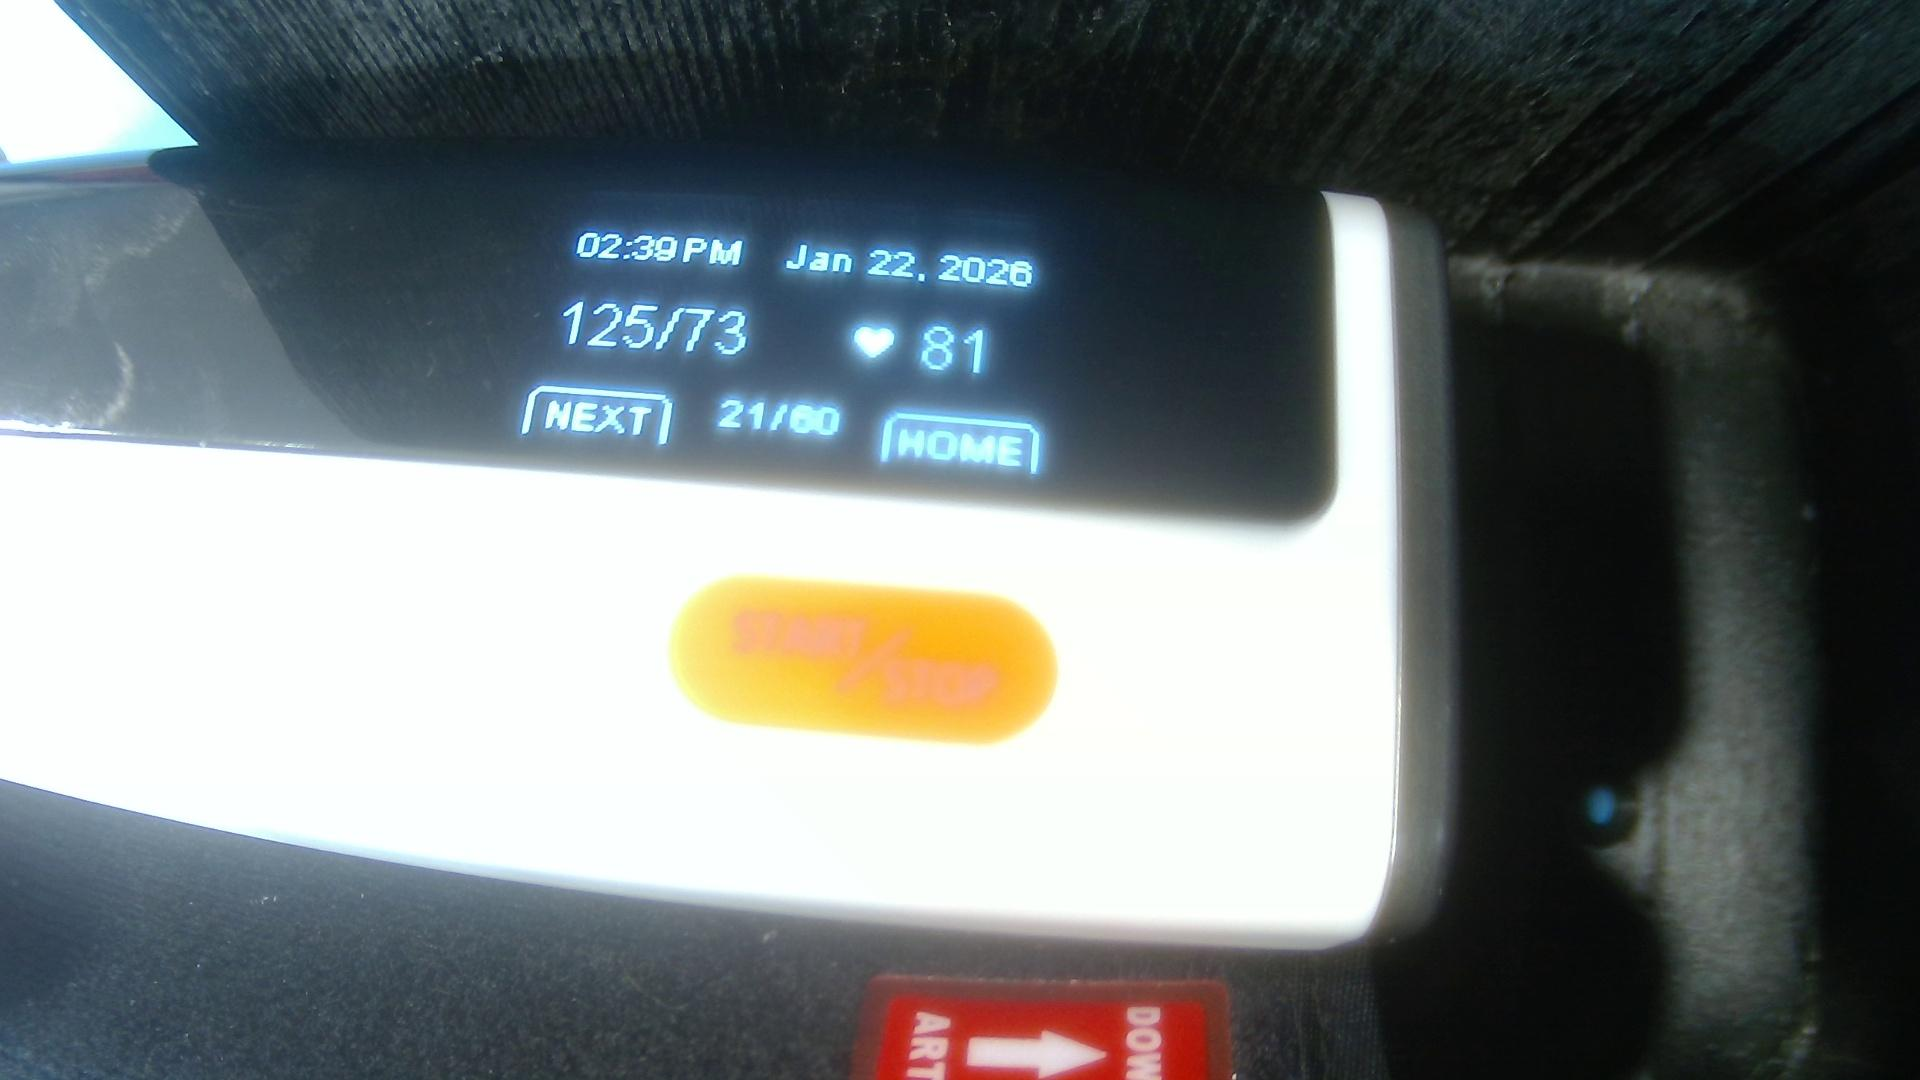DISPLAY: (16, 175, 1313, 516)
